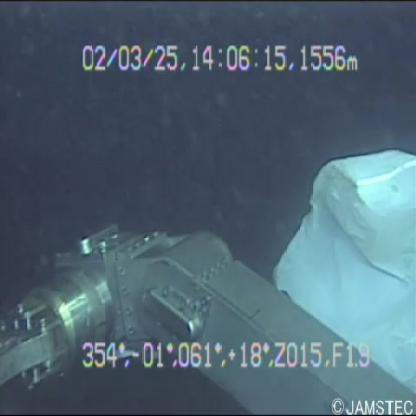Rov: (4, 209, 415, 414)
Rác: (257, 123, 416, 392)
